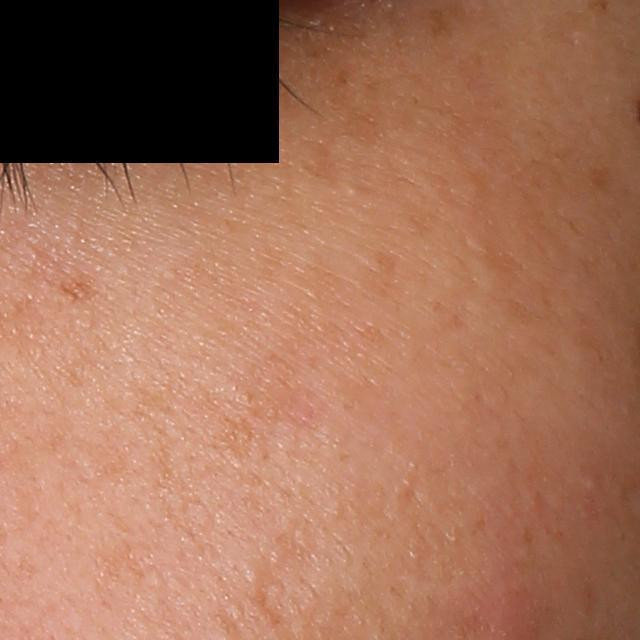comedo: (240, 563, 262, 583)
melasma: (298, 0, 533, 140), (202, 408, 276, 468)
